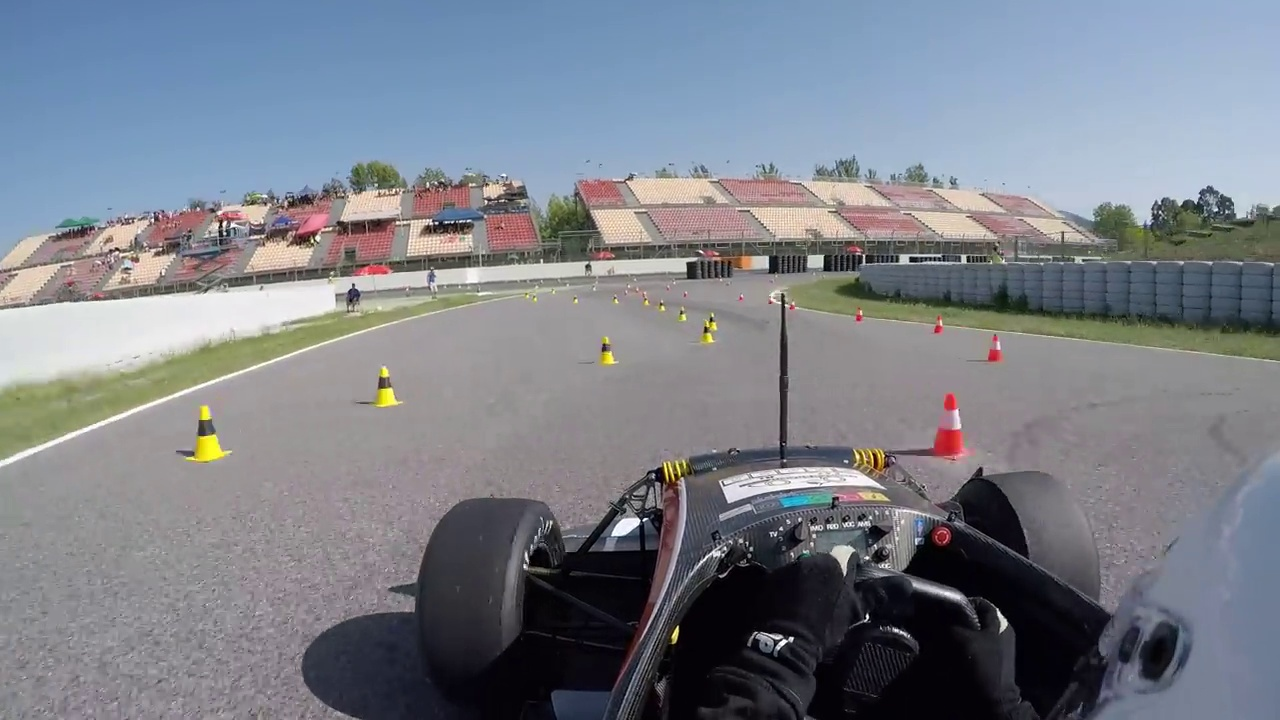Cone: (927, 390, 968, 459), (188, 403, 229, 459), (371, 362, 402, 408), (985, 332, 1007, 364), (598, 335, 616, 367)
